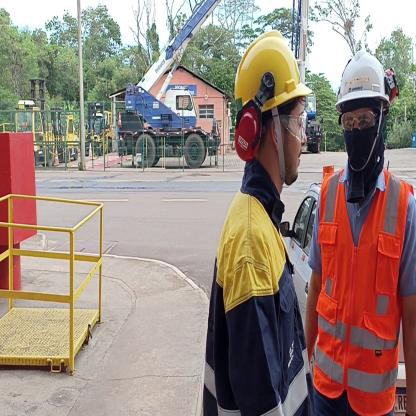Balaclava: (338, 106, 390, 195)
C_eletrica: (205, 180, 317, 416)
Capacete: (233, 30, 312, 106), (338, 53, 393, 104)
colete: (322, 180, 402, 412)
